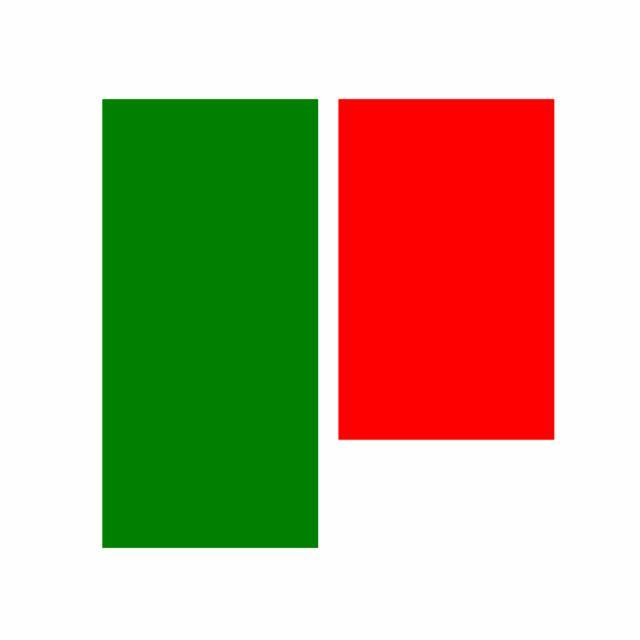Marubozu: (328, 96, 566, 443)
